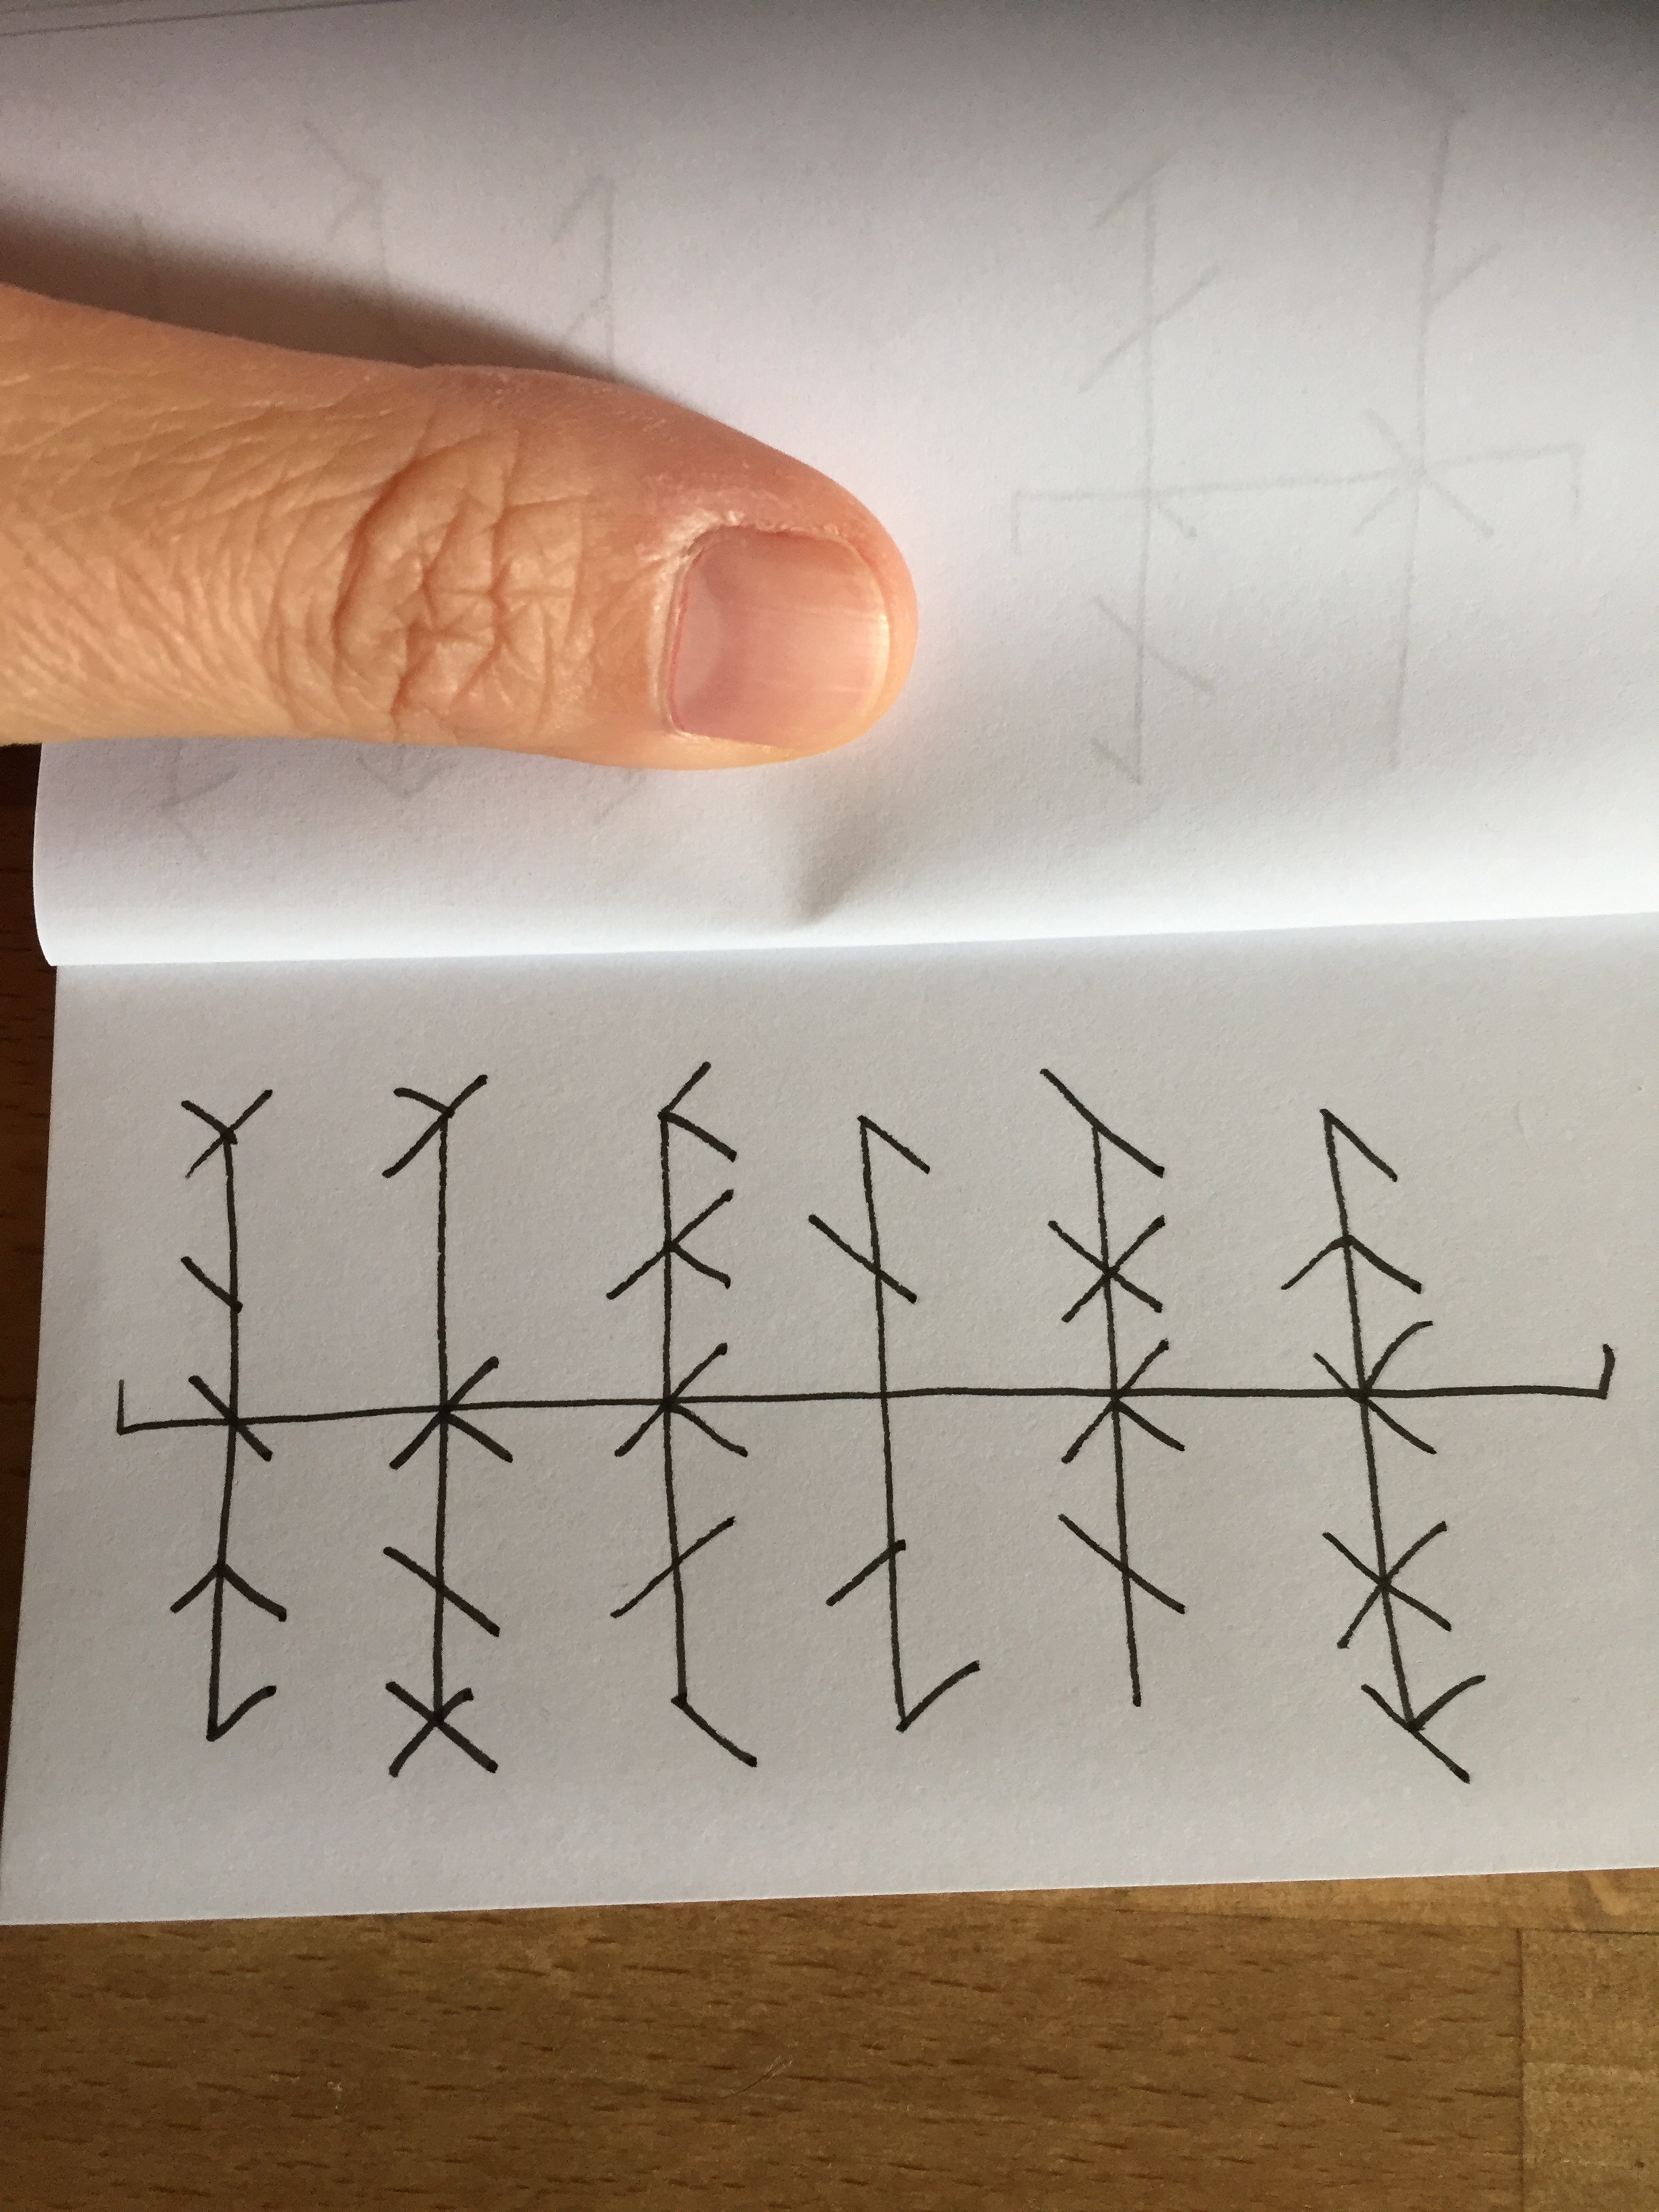Bar: (1281, 1109, 1486, 1784), (606, 1061, 756, 1770), (809, 1118, 979, 1731), (382, 1073, 512, 1778), (1040, 1068, 1183, 1707), (171, 1090, 288, 1742)
Barcode: (113, 1059, 1617, 1787)
End: (1406, 1341, 1615, 1402)
Start: (113, 1376, 188, 1435)
